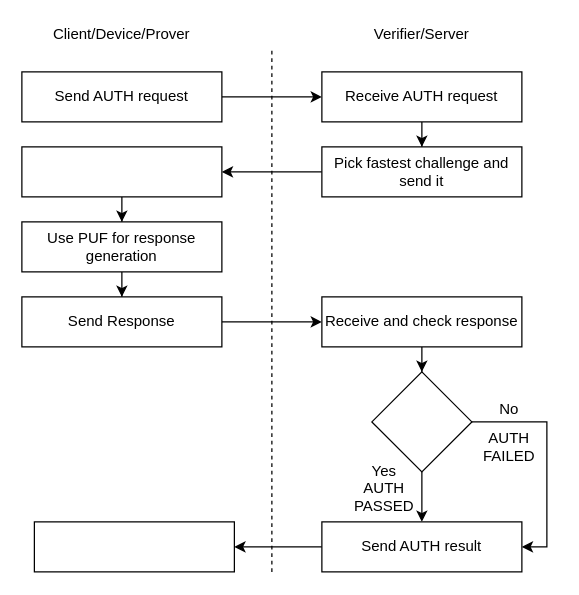
Image size: 579x595. Some labels were removed from this diagram. The box of each missing label's shape, as (x1, y1, x2, y2) in pixels:
Is Match threshold passed?: (371, 371, 472, 472)
Receive AUTH result: (33, 521, 234, 572)
Receive Challenge: (21, 146, 222, 197)
